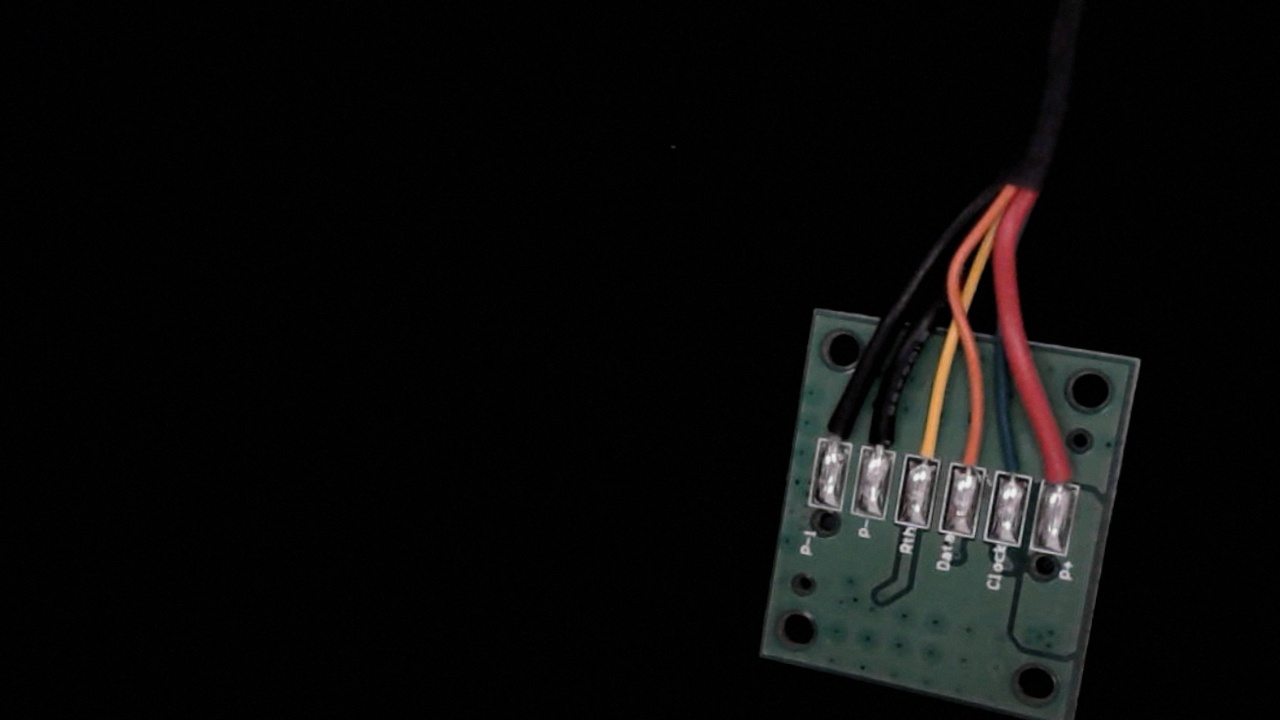Black: (857, 391, 910, 477)
Black1: (810, 386, 860, 465)
Green: (990, 433, 1037, 505)
Orange: (944, 411, 994, 495)
Red: (1040, 436, 1088, 508)
Yellow: (899, 399, 952, 486)
